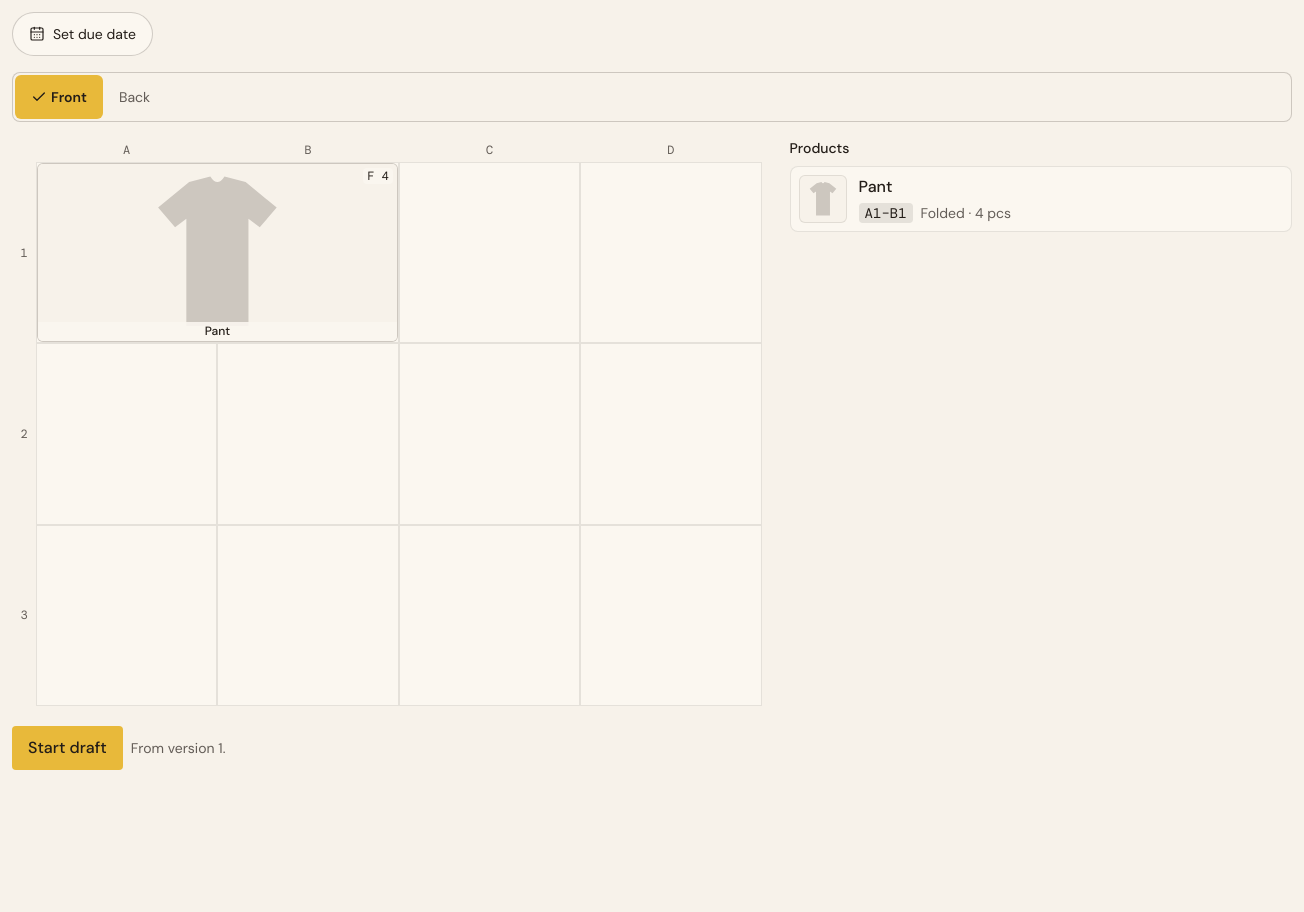
Test: PlanogramScreen › closes a read-only sheet whose product is gone after a refresh
Click the button with aria-label "Pant, " at (217, 253), box x1=37 y1=163 x2=398 y2=342
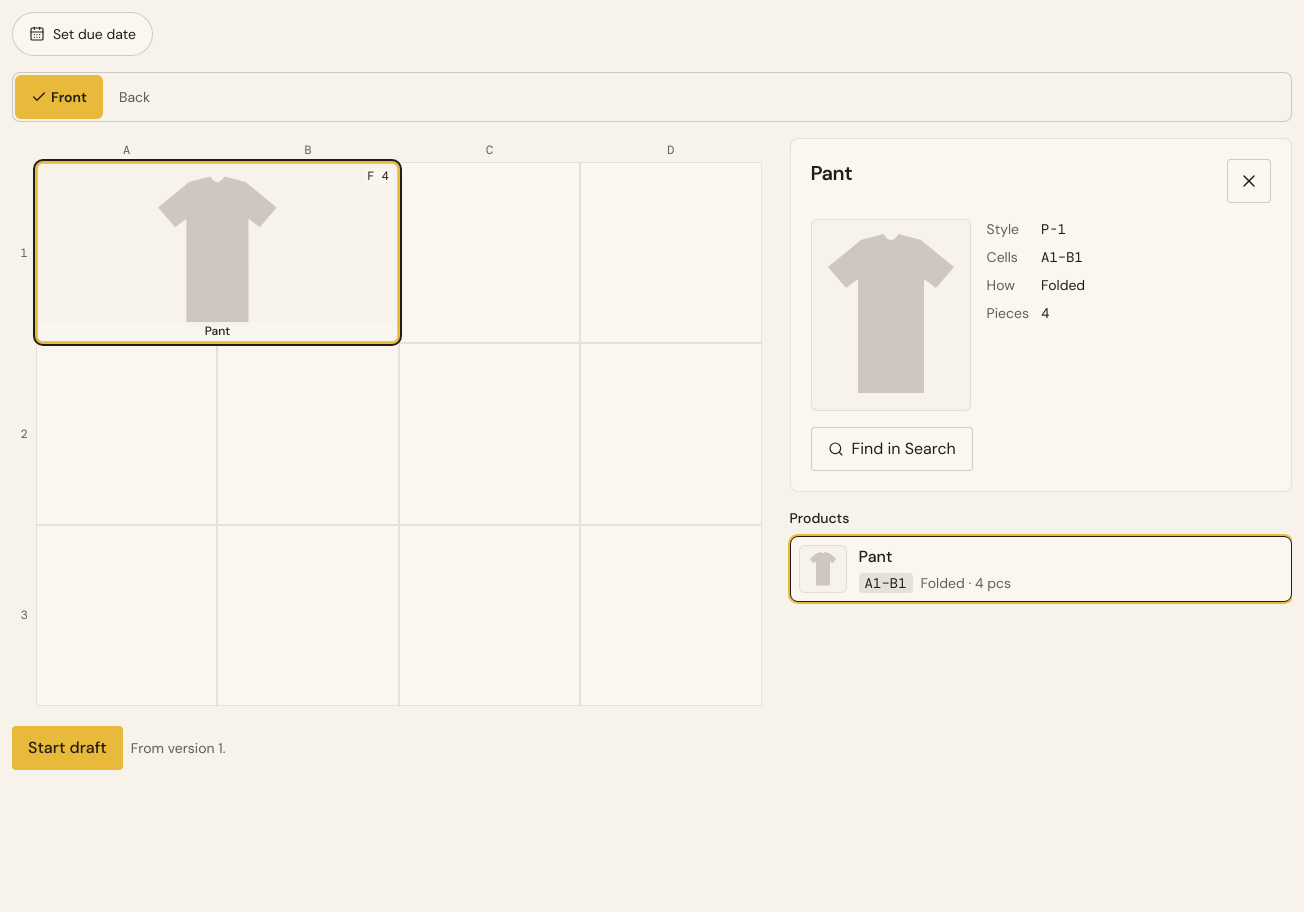
Expected: the element "Pant" is shown, x1=790 y1=138 x2=1292 y2=492
